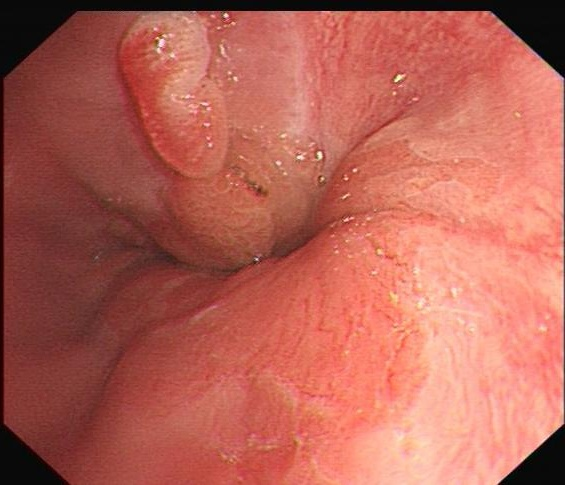Polyp: (118, 10, 237, 185)
